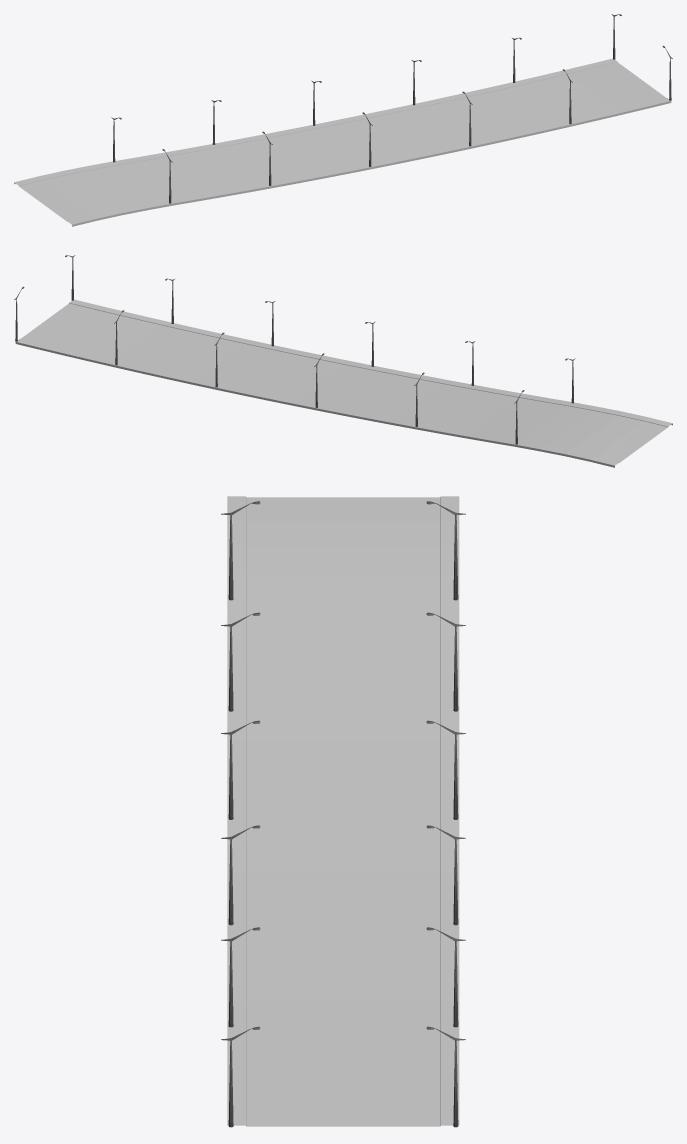
The model's file is Big_Road_up_5.FBX.
3 views of the same model, one above another, from view 1: azimuth 30°, elevation 25°; view 2: azimuth 150°, elevation 25°; view 3: azimuth 270°, elevation 25° (orthographic). The views are drawn at different scales.
Visible parts, largest first — view 1: Big_Road_up_5; view 2: Big_Road_up_5; view 3: Big_Road_up_5.
Part boxes in pixels (x1,y1,x2,y2): Big_Road_up_5: (14, 58, 671, 226); Big_Road_up_5: (15, 299, 672, 467); Big_Road_up_5: (227, 496, 459, 1126).
Size of the model in its own units: 135 by 23.94 by 15.08.
